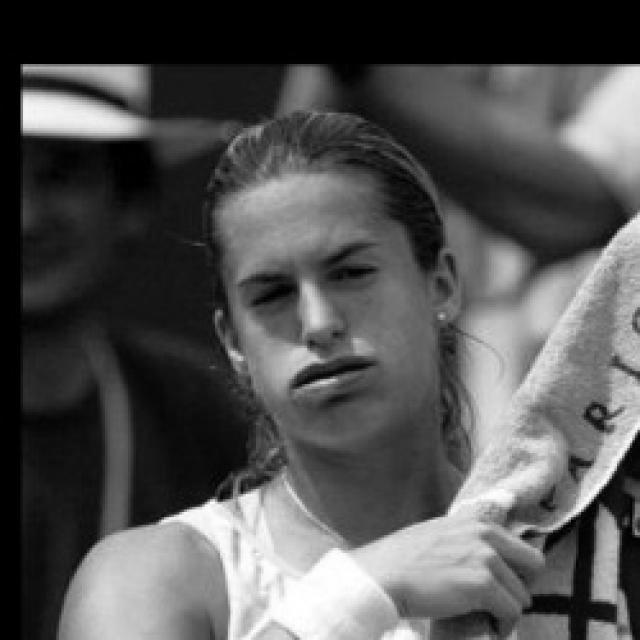real: (218, 114, 456, 446), (235, 247, 395, 323)
